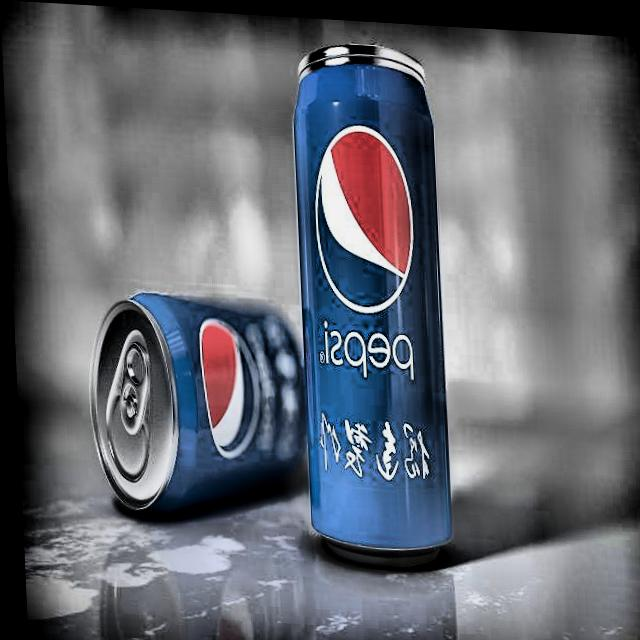can: (283, 28, 461, 565), (74, 284, 308, 523)
